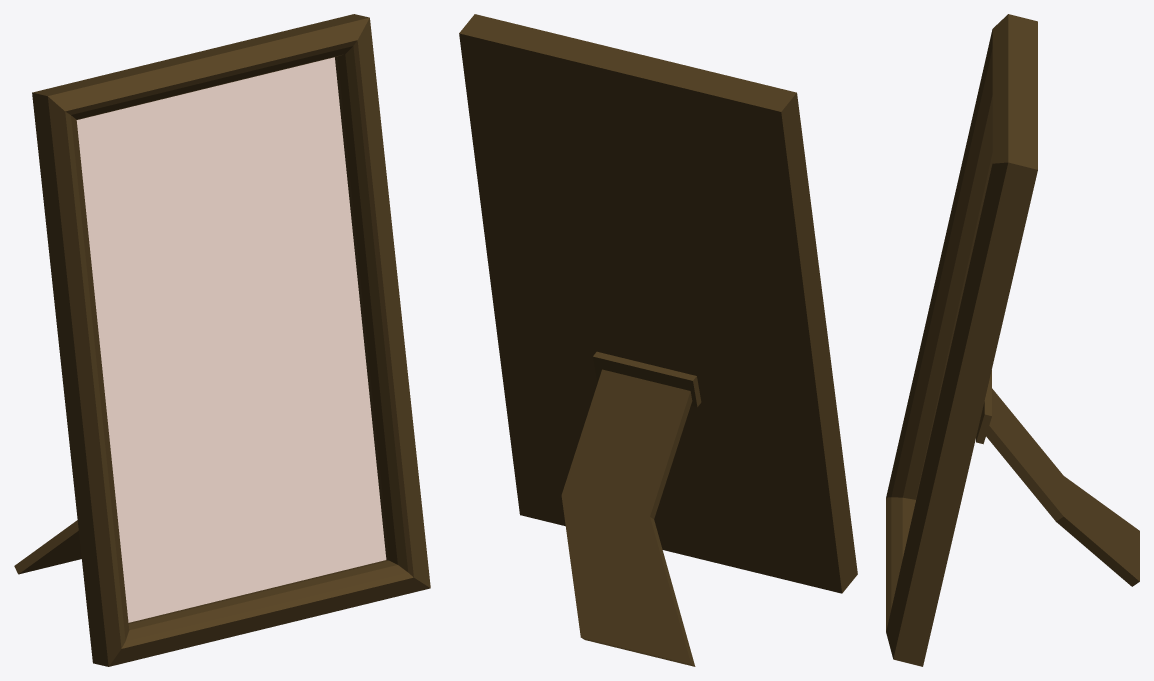
File: Prop_PictureFrame_02.fbx
The picture shows the model from 3 angles, left to right: view 1: azimuth 30°, elevation 25°; view 2: azimuth 150°, elevation 25°; view 3: azimuth 270°, elevation 25°; orthographic projection. The views are drawn at different scales.
Visible parts, largest first — view 1: Prop_PictureFrame_02; view 2: Prop_PictureFrame_02; view 3: Prop_PictureFrame_02.
Boxes of the visible parts, box(x1,y1,x2,y2) form: Prop_PictureFrame_02: box(14, 14, 430, 666); Prop_PictureFrame_02: box(459, 14, 857, 666); Prop_PictureFrame_02: box(886, 14, 1139, 666).
Bounding box in the file's own units: 17.49 × 27.76 × 12.63.
